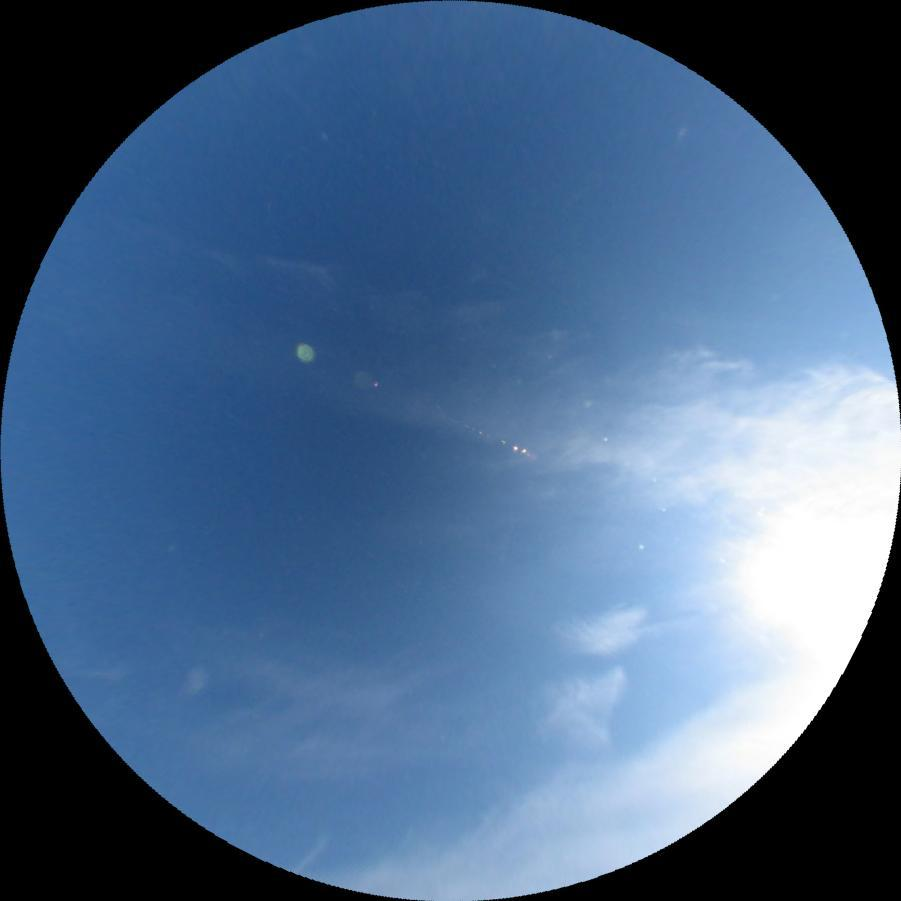contrail veryold: (111, 266, 874, 536), (524, 584, 646, 770)
unknow: (628, 614, 692, 640)
